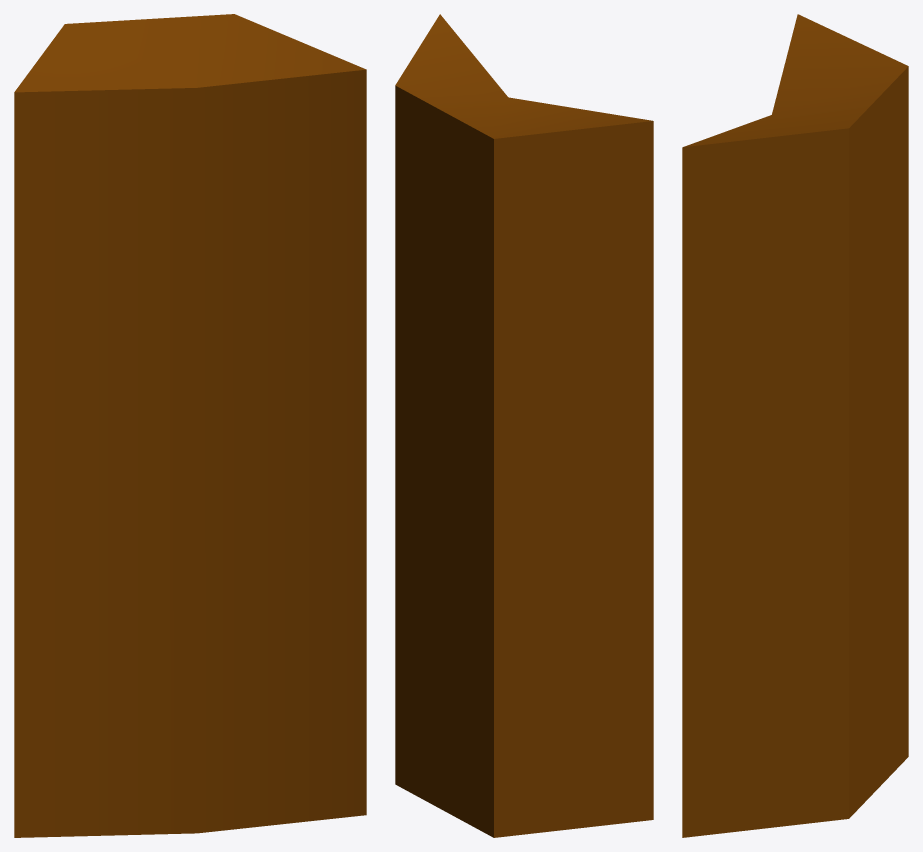
File: I_Chopped_Wood.fbx
3 renders of one model, left to right at view 1: azimuth 30°, elevation 25°; view 2: azimuth 150°, elevation 25°; view 3: azimuth 270°, elevation 25°, orthographic. The views are drawn at different scales.
Visible parts, largest first — view 1: Cylinder; view 2: Cylinder; view 3: Cylinder.
Part boxes in pixels (left/top/right/bottom): Cylinder: left=14, top=14, right=366, bottom=837; Cylinder: left=395, top=14, right=653, bottom=837; Cylinder: left=682, top=14, right=908, bottom=837.
Size of the model in its own units: 116 by 295 by 84.78.
